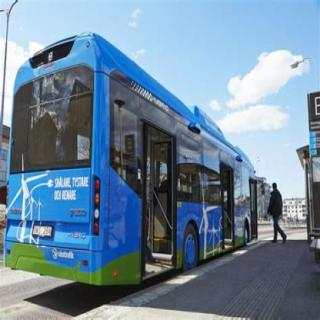Normal_vehicle: (3, 27, 264, 292)
